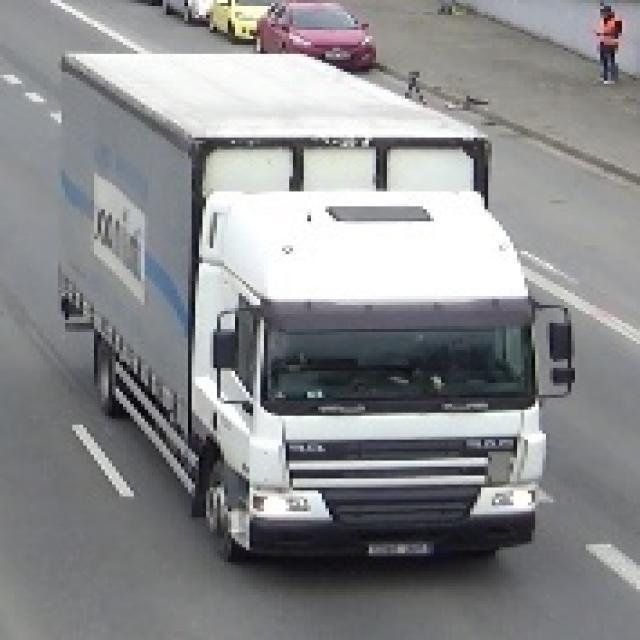Car: (265, 0, 380, 76), (208, 1, 274, 48)
Truck: (51, 39, 576, 568)
